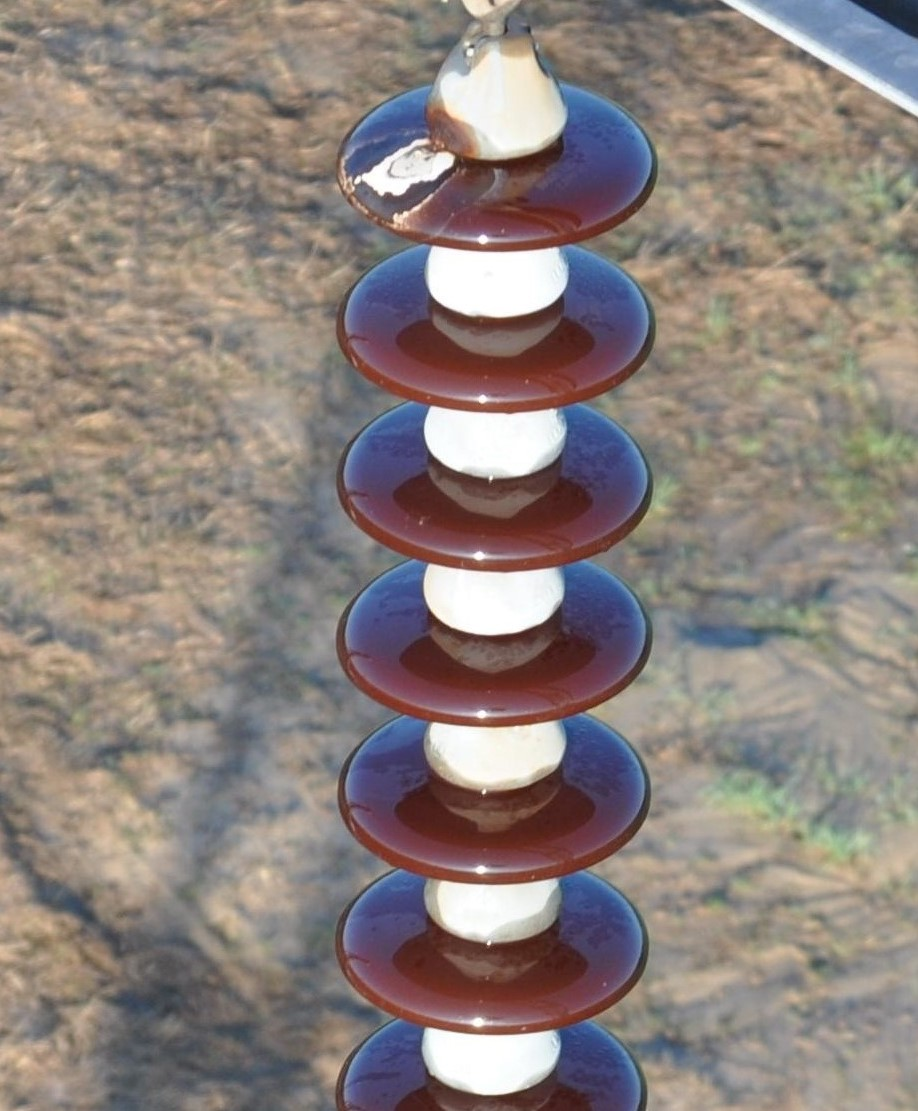Insulator flashover: (323, 63, 667, 259)
